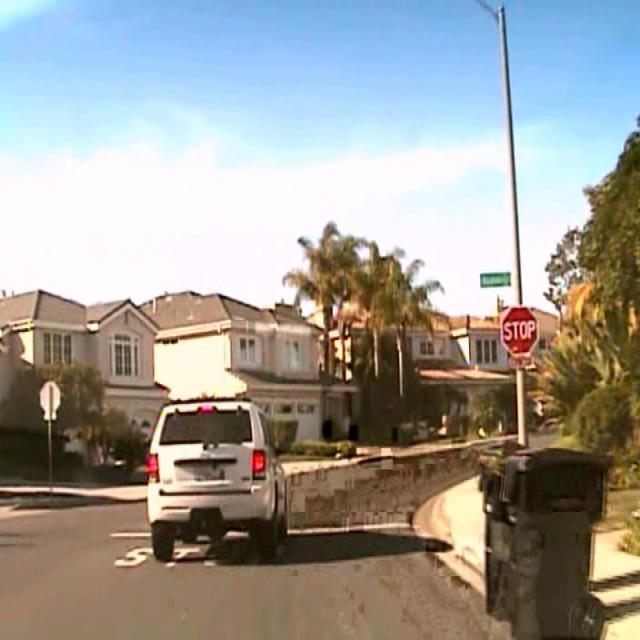stop_sign: (501, 304, 539, 356)
